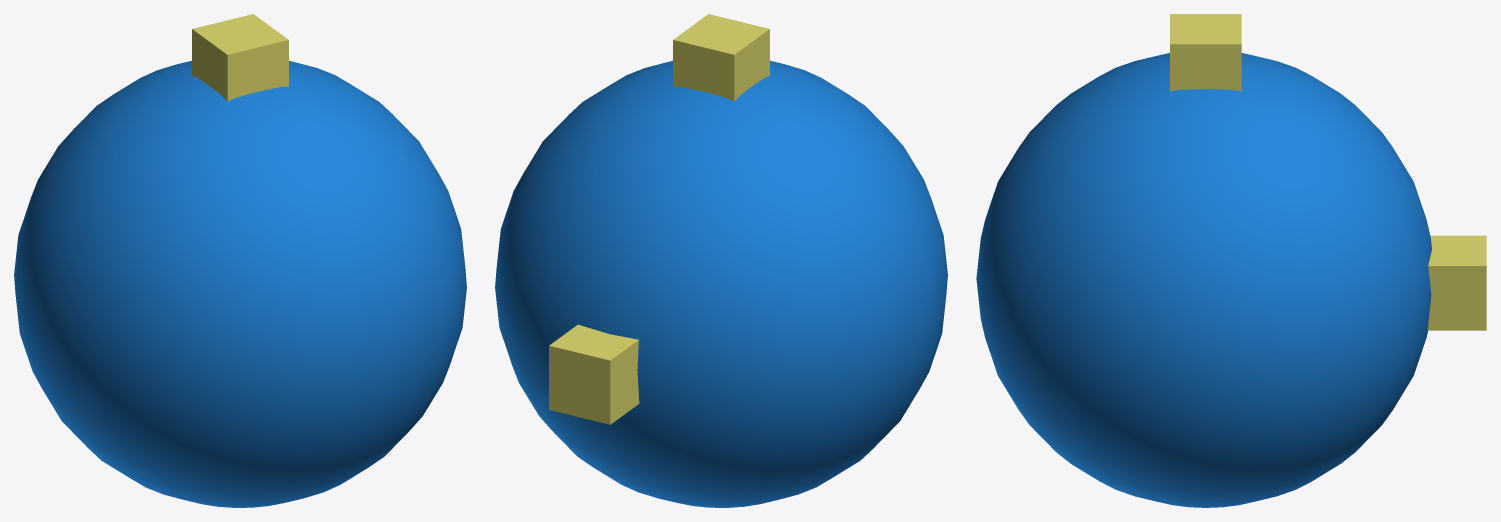
Rendered from websitedemo.glb.
3 renders of one model, left to right at view 1: azimuth 30°, elevation 25°; view 2: azimuth 150°, elevation 25°; view 3: azimuth 270°, elevation 25°, orthographic.
Parts seen in each view (by area): view 1: Sphere, Home; view 2: Sphere, Home.001, Home; view 3: Sphere, Home.001, Home.
Part boxes in pixels (bbox=[...]): Sphere: bbox=[14, 61, 466, 507]; Home: bbox=[192, 14, 288, 101]; Sphere: bbox=[495, 61, 947, 507]; Home.001: bbox=[549, 324, 639, 424]; Home: bbox=[673, 14, 769, 101]; Sphere: bbox=[976, 53, 1431, 507]; Home.001: bbox=[1427, 235, 1486, 330]; Home: bbox=[1170, 14, 1241, 91].
Size of the model in its own units: 3.35 by 3.68 by 3.72.
